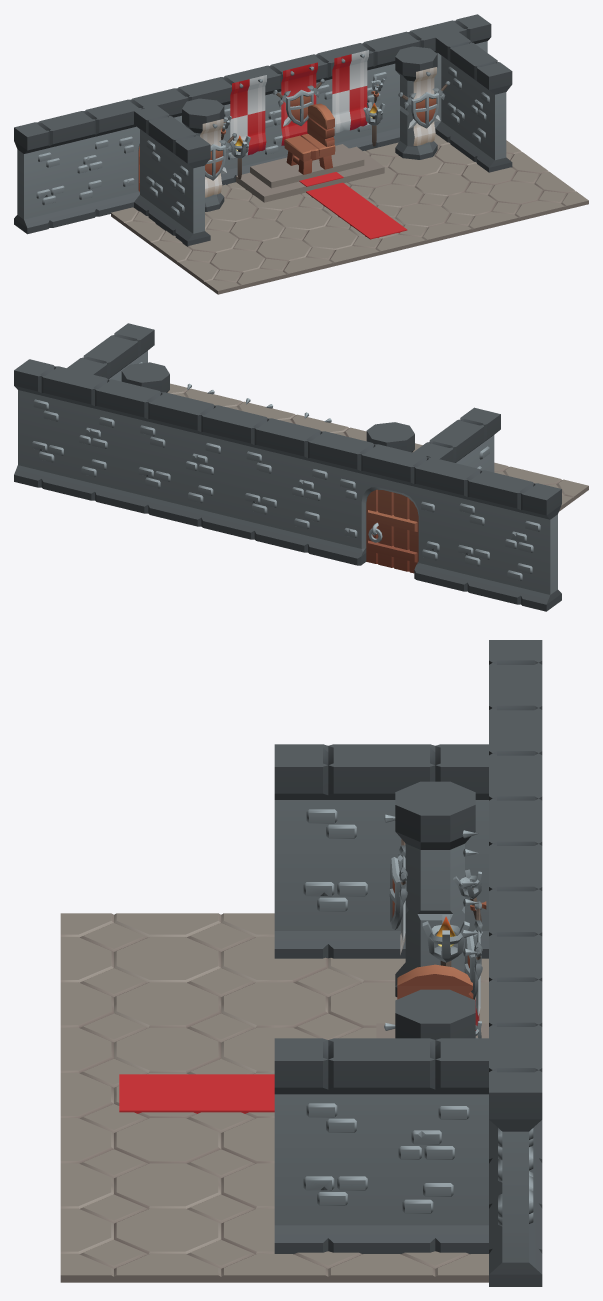
Rendered from hall.glb.
The picture shows the model from 3 angles, top to bottom: view 1: azimuth 30°, elevation 25°; view 2: azimuth 150°, elevation 25°; view 3: azimuth 270°, elevation 25°; orthographic projection. The views are drawn at different scales.
Visible parts, largest first — view 1: static; view 2: static, door; view 3: static.
Boxes of the visible parts, x1,y1,x2,y2 form: static: (14, 14, 588, 294); static: (14, 323, 588, 611); door: (366, 489, 418, 573); static: (60, 640, 542, 1286).
Size of the model in its own units: 20 by 4.43 by 9.
Materials: 1 (1 with a texture image).
